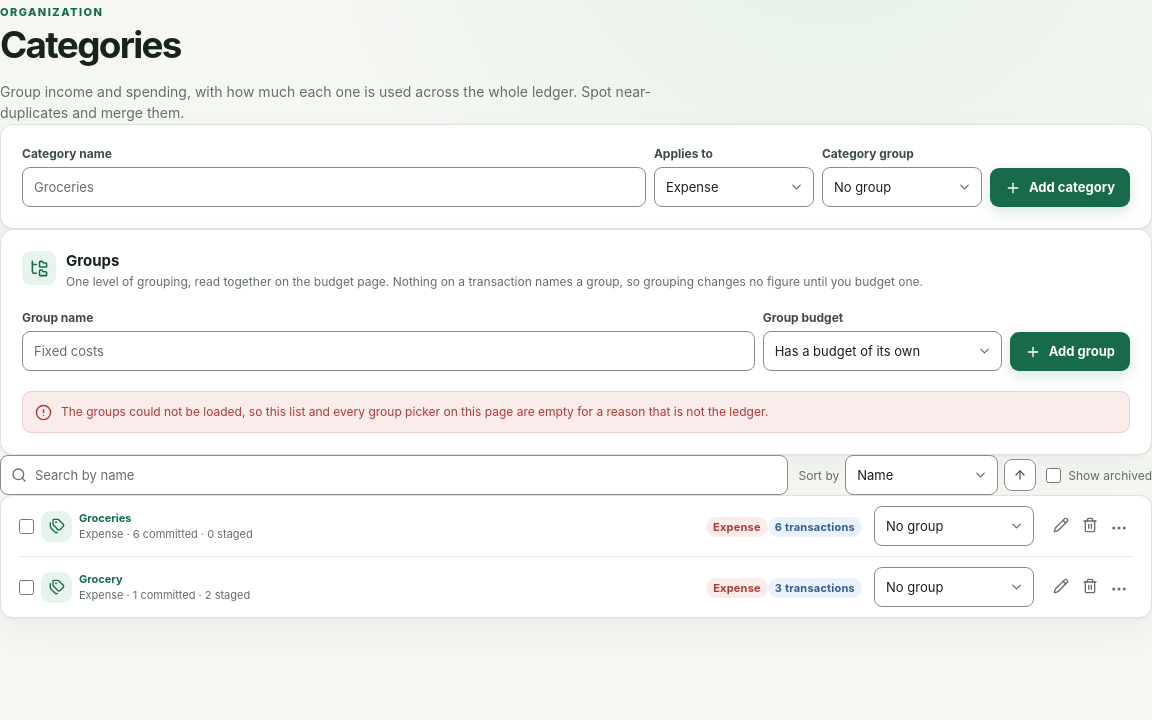
Scenario: what a merge says it did › counts the categories the server folded and the rows it rewrote
This screenshot has width=1152, height=720.
Click the checkbox named "Select Groceries for merging" at (26, 526), box [19,519,34,534]
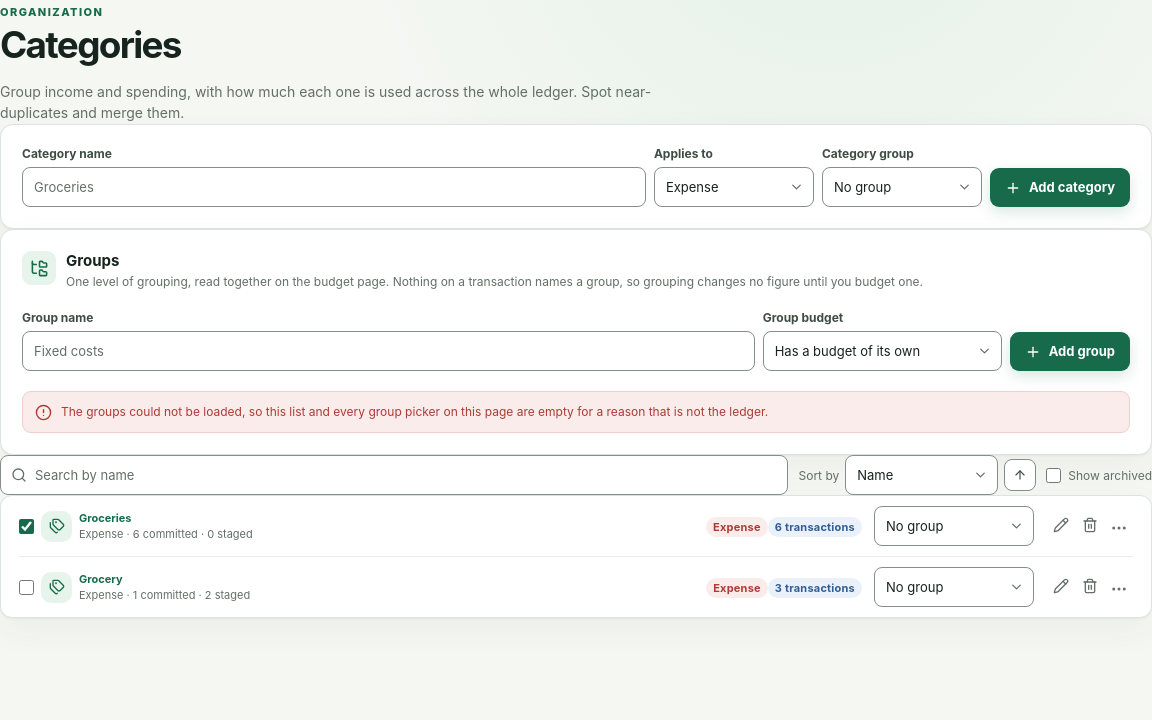
Click the checkbox named "Select Grocery for merging" at (26, 588), box [19,580,34,595]
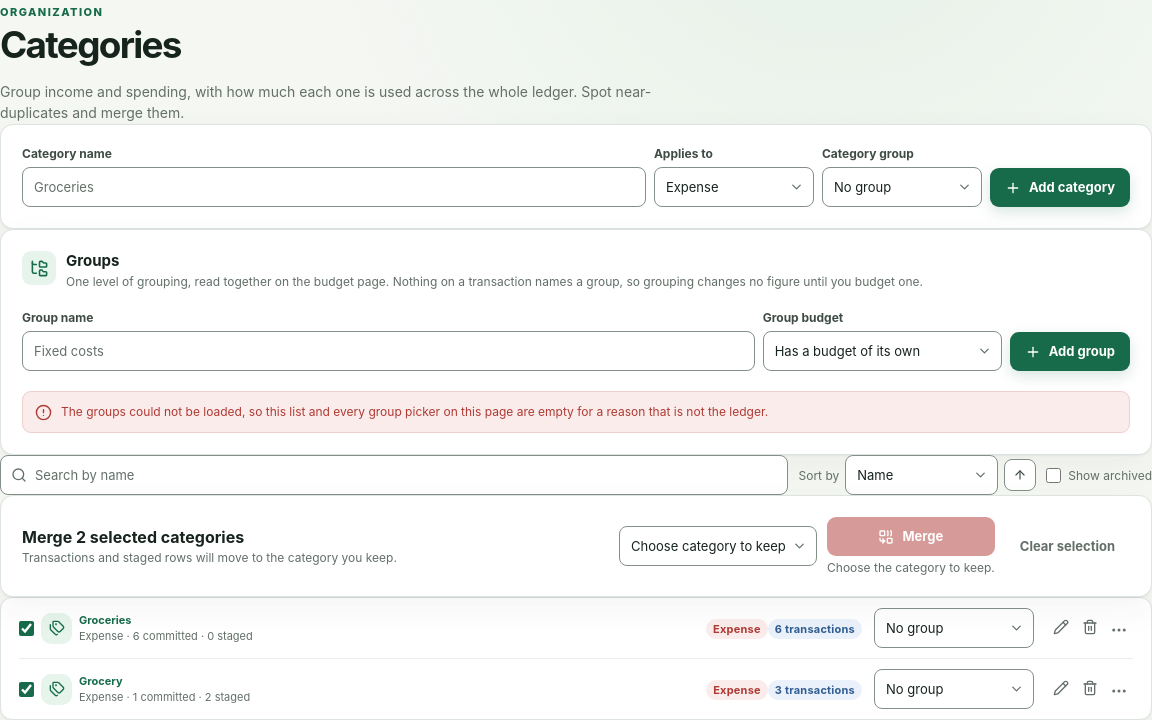
Select "Groceries" in the dropdown named "Category to keep" at (718, 546), box [619,526,817,566]
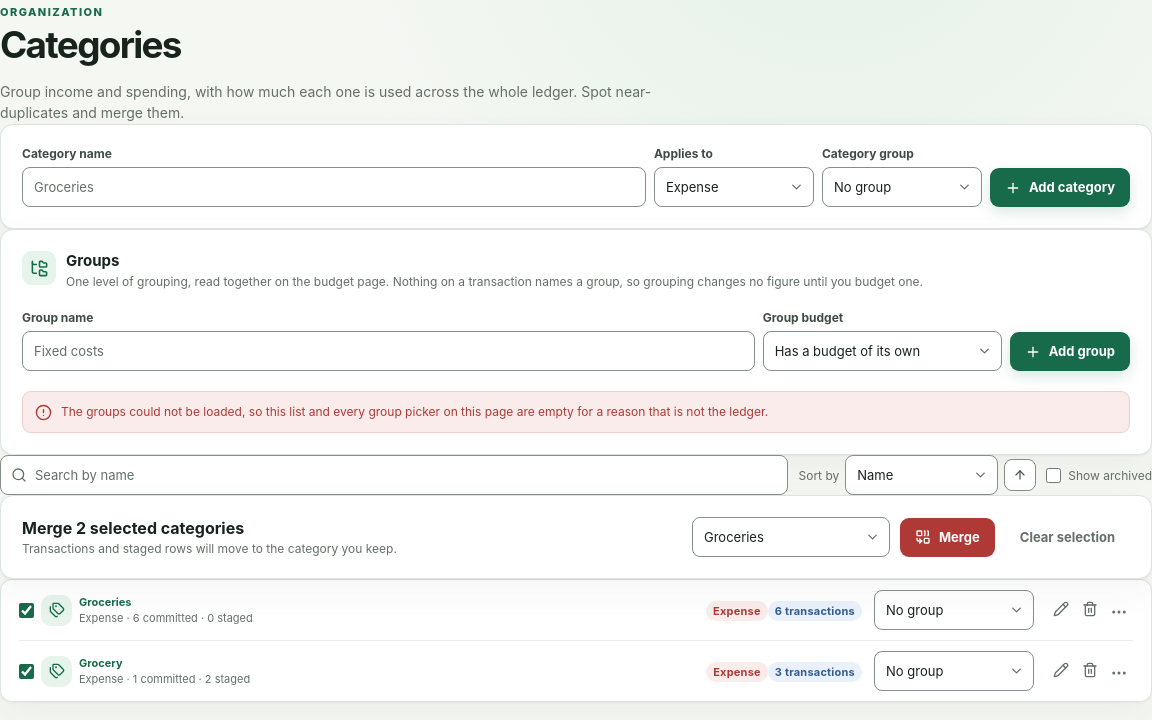
Click the button "Merge" at (947, 538), box [900,518,995,557]
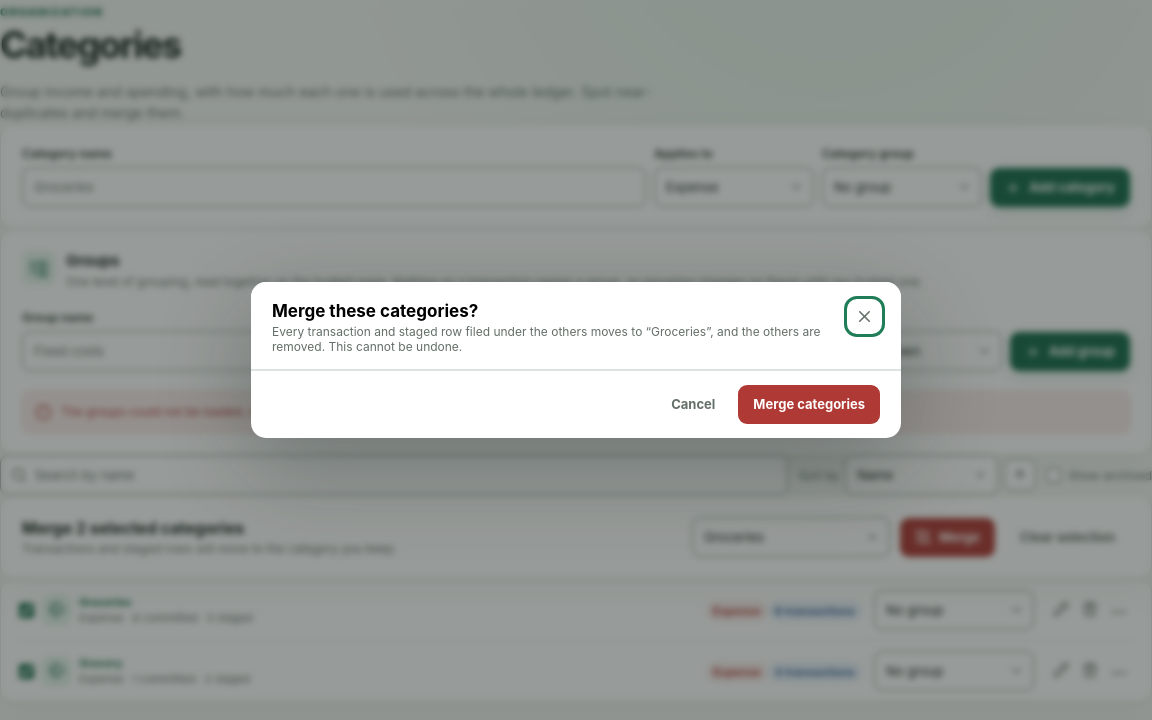
Click the button "Merge categories" at (809, 404), box [738,385,880,424]
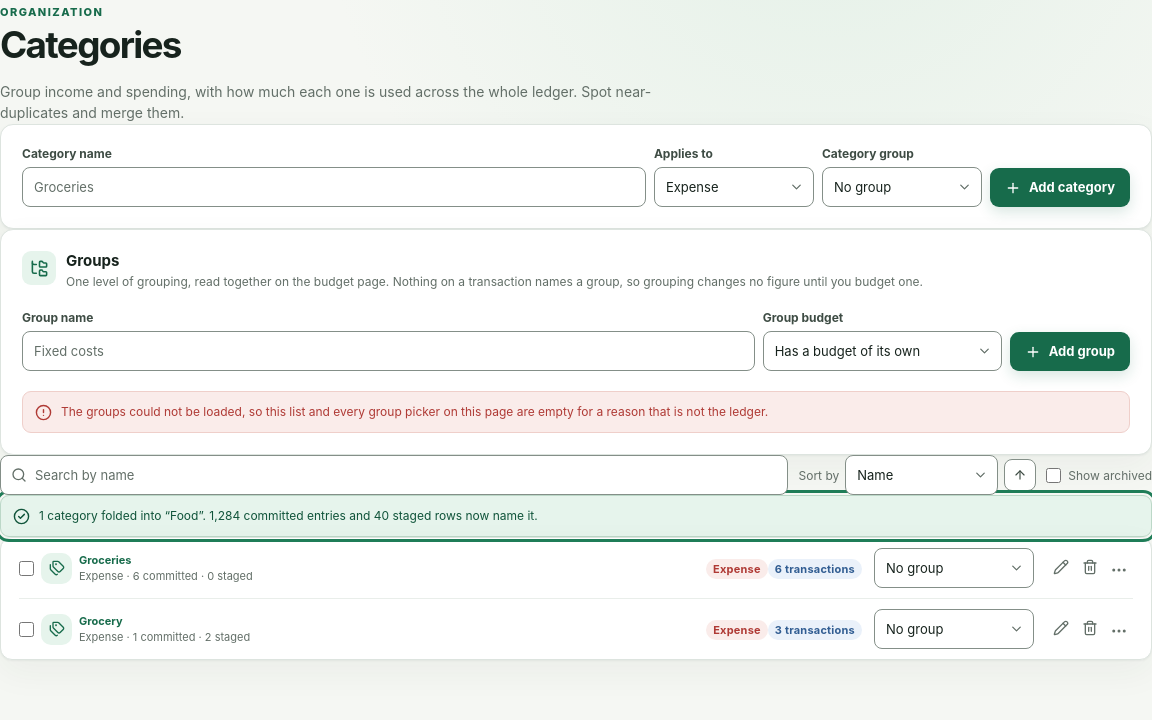
Expected: the text "folded into" shows "1 category folded into “Food”", [39,508,538,524]
Expected: the text "folded into" shows "1,284 committed entries", [39,508,538,524]
Expected: the text "folded into" shows "40 staged rows", [39,508,538,524]
